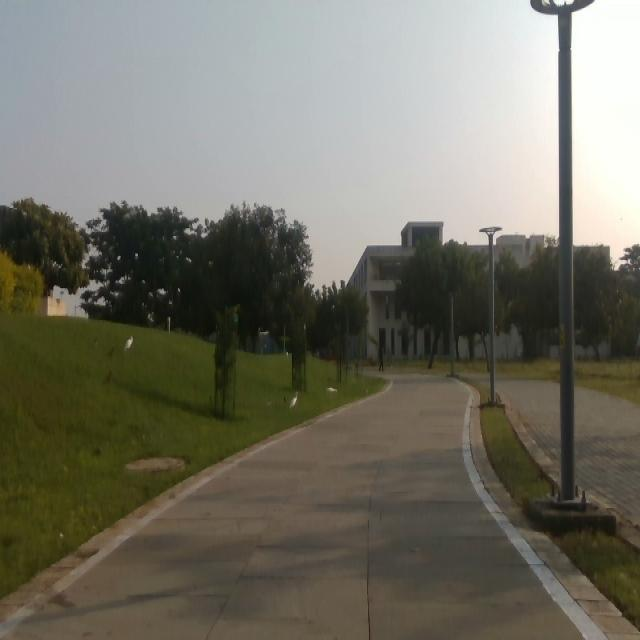lane: (1, 375, 585, 640)
